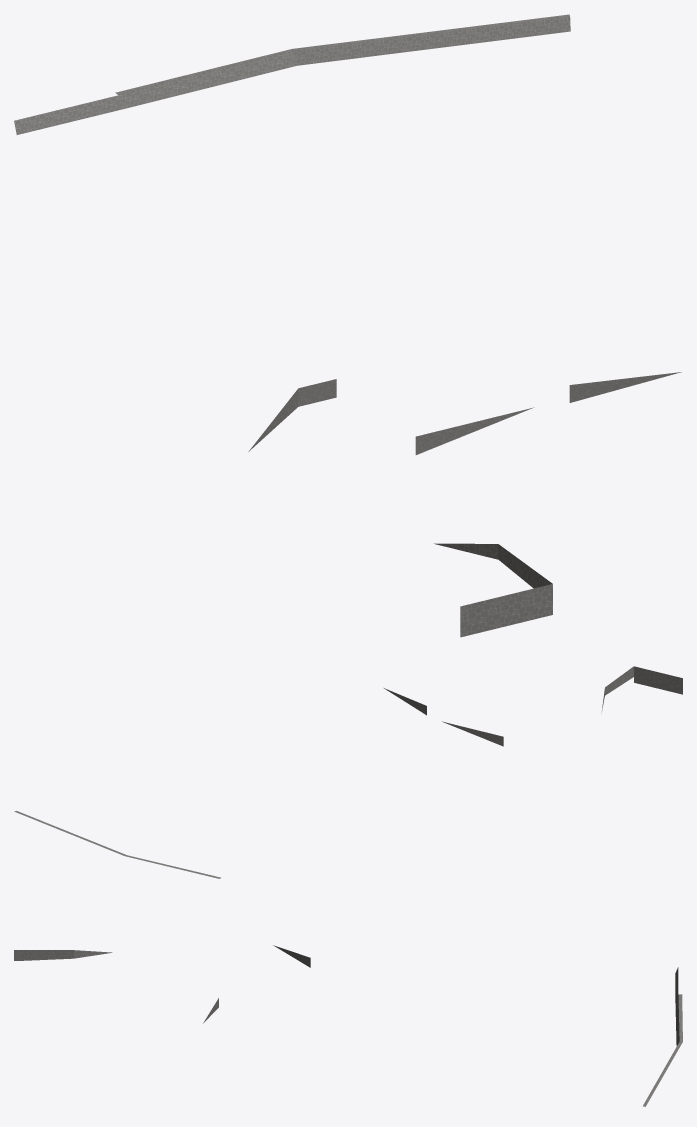
The model's file is kd_stage_135ebf_1_23.glb.
3 views of the same model, one above another, from view 1: azimuth 30°, elevation 25°; view 2: azimuth 150°, elevation 25°; view 3: azimuth 270°, elevation 25° (orthographic). The views are drawn at different scales.
Visible parts, largest first — view 1: kd_stage_135ebf_1_23; view 2: kd_stage_135ebf_1_23; view 3: kd_stage_135ebf_1_23.
Boxes of the visible parts, x1,y1,x2,y2 form: kd_stage_135ebf_1_23: [14, 14, 681, 637]; kd_stage_135ebf_1_23: [14, 666, 682, 878]; kd_stage_135ebf_1_23: [14, 945, 682, 1106].
Size of the model in its own units: 23.11 by 1.4 by 35.63.
1 material, 1 textured.
